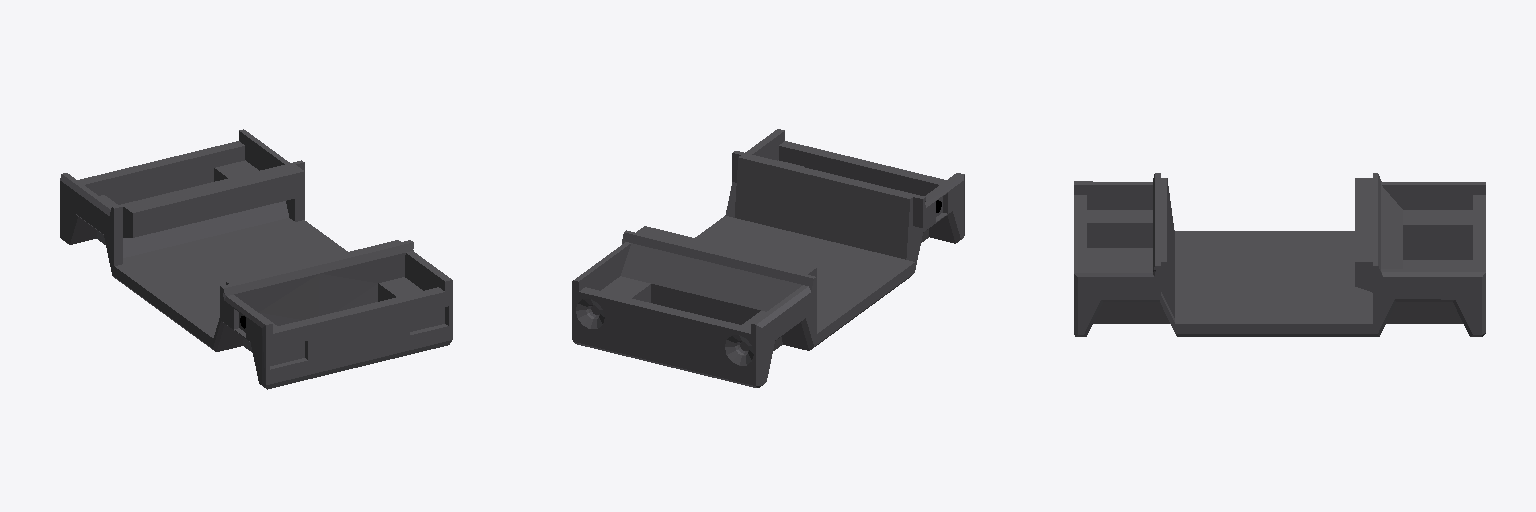
File: Chassis.obj
3 views of the same model, side by side, from view 1: azimuth 30°, elevation 25°; view 2: azimuth 150°, elevation 25°; view 3: azimuth 270°, elevation 25° (orthographic).
Parts seen in each view (by area): view 1: Chassis1; view 2: Chassis1; view 3: Chassis1.
Part boxes in pixels (left/top/right/bottom): Chassis1: left=60, top=129, right=452, bottom=389; Chassis1: left=572, top=129, right=964, bottom=387; Chassis1: left=1074, top=173, right=1485, bottom=336.
Size of the model in its own units: 6.13 by 2.25 by 11.53.